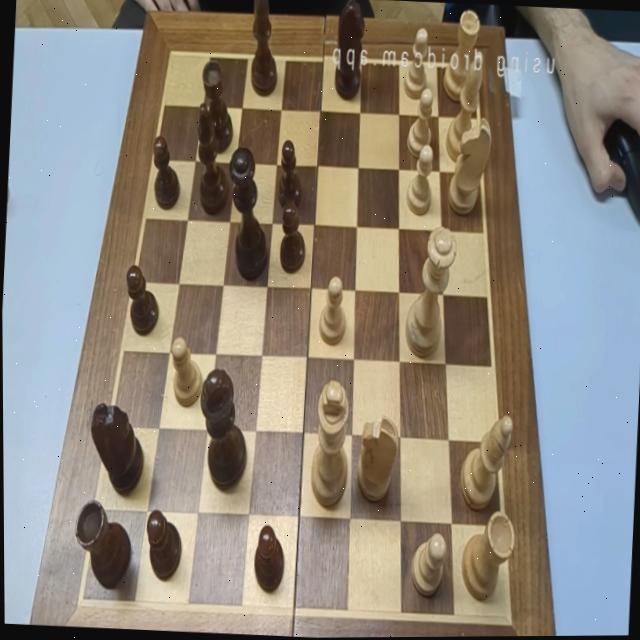black_bishop: (193, 103, 233, 217)
black_king: (195, 369, 250, 492)
black_knight: (87, 402, 146, 498), (333, 0, 367, 102)
black_pawn: (143, 510, 183, 582), (123, 265, 160, 337), (150, 136, 182, 211), (252, 525, 285, 593), (278, 201, 307, 275), (277, 140, 304, 210)
black_queen: (223, 147, 273, 281)
black_rook: (71, 499, 132, 591), (198, 60, 236, 155)
white_bishop: (457, 413, 514, 513), (444, 50, 483, 164)
white_king: (308, 380, 351, 508)
white_knight: (446, 116, 493, 217), (354, 415, 399, 504)
white_pawn: (167, 336, 204, 408), (409, 533, 446, 599), (318, 276, 348, 346), (405, 144, 434, 216), (406, 88, 434, 160), (403, 28, 429, 100)
white_queen: (403, 224, 459, 360)
white_rook: (458, 511, 516, 604), (442, 10, 481, 104)
